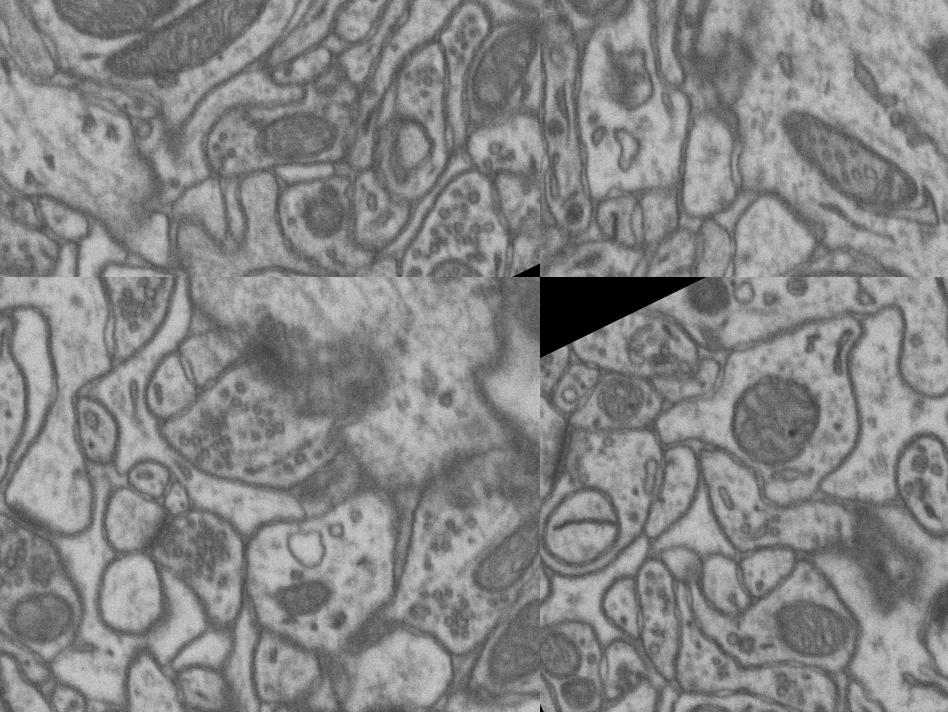mitochondria: (768, 64, 931, 252), (79, 0, 314, 110), (700, 349, 853, 499), (388, 346, 528, 482), (429, 448, 540, 610), (33, 0, 216, 71), (757, 572, 868, 686), (439, 5, 540, 130), (767, 207, 941, 277), (448, 588, 540, 712), (713, 277, 902, 329), (245, 89, 348, 182), (0, 558, 71, 662), (579, 357, 661, 440), (282, 544, 363, 622), (540, 609, 602, 702), (491, 299, 540, 403), (916, 23, 948, 181), (290, 182, 360, 252), (542, 0, 638, 36), (408, 242, 493, 277), (720, 687, 814, 712)
